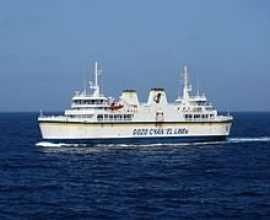otherboat: (37, 57, 233, 147)
